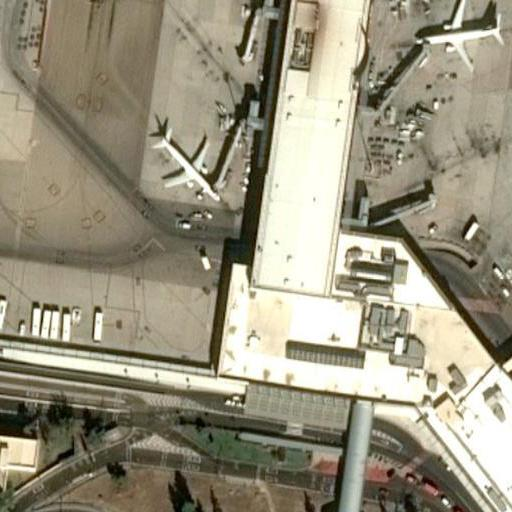Aircraft: (141, 118, 224, 210), (413, 1, 512, 76)
